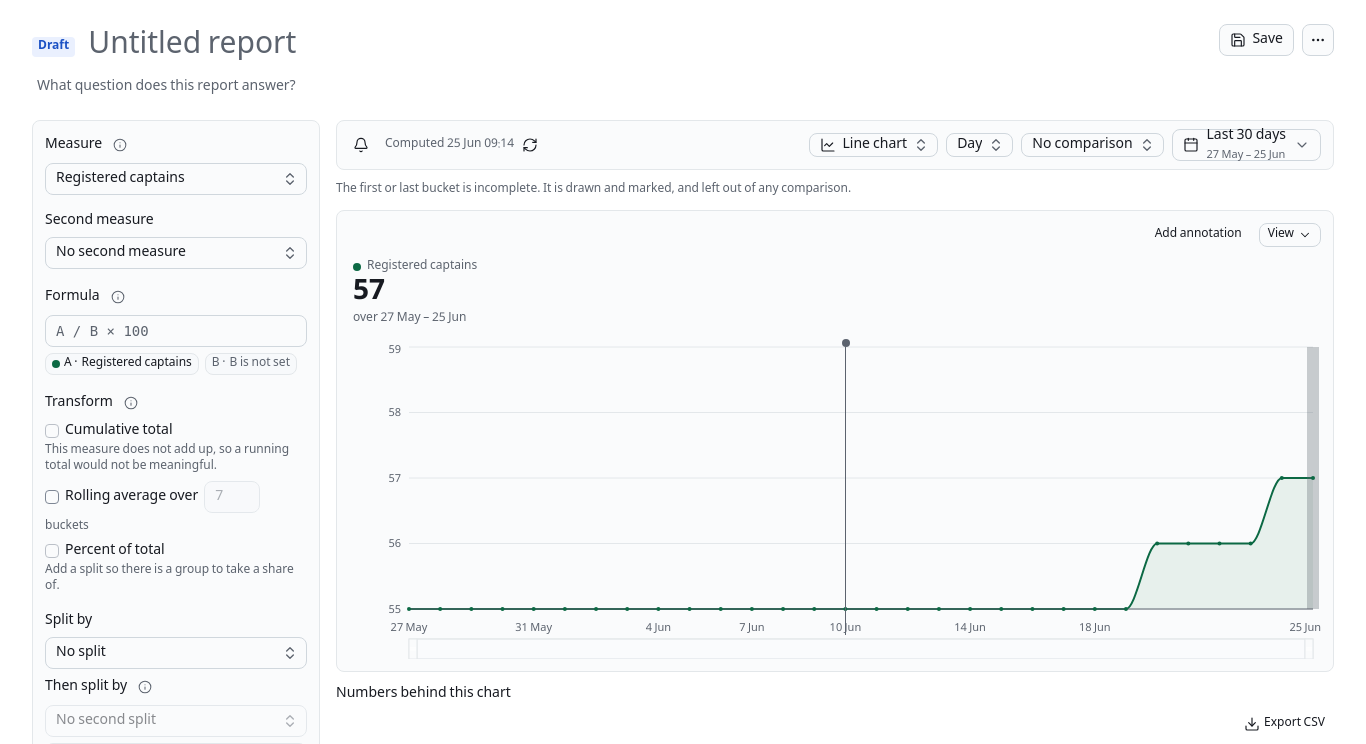
Test: the freshness sentence carries the way to act on it › re-runs the question from beside the timestamp
Expected: the text "Computed" is shown, [385,134,514,155]
Click the button named "Run again".
click(530, 145)  # box [518,133,542,157]
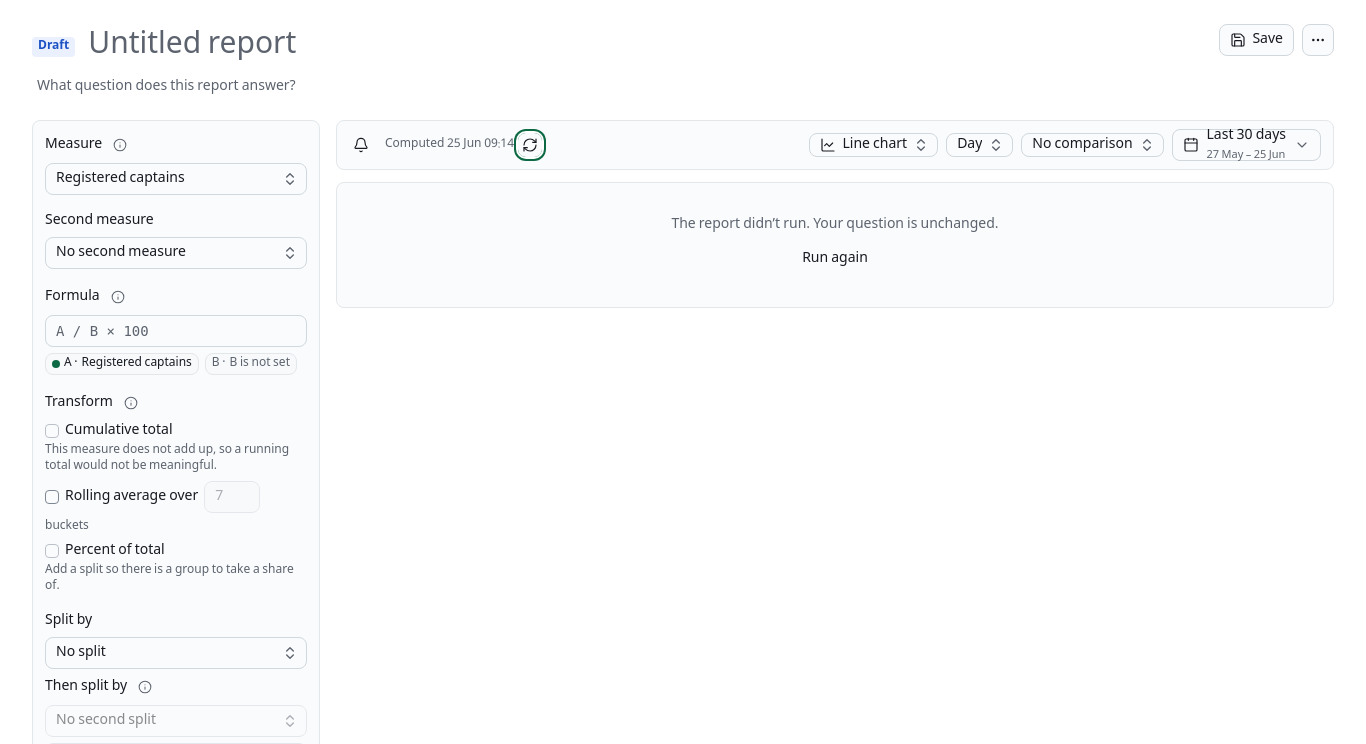
Now the text "The report didn’t run. Your question is unchanged." is shown, box [671,215,998,235]
